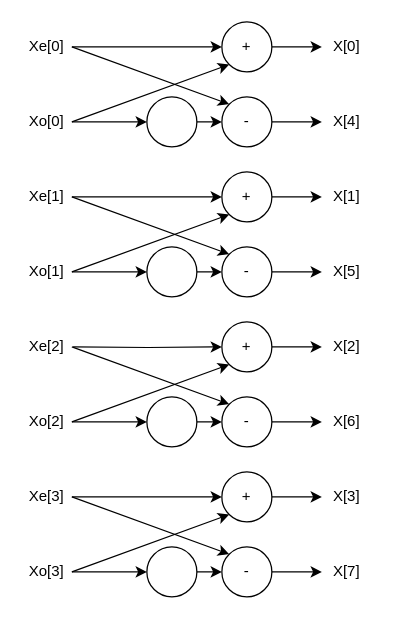
The diagram is 393 pixels wide and 619 high, and some of its shapes have lost their labels. The shapes that lost their labels are listed below. From the top down, each one's centre as x and y in pixels, then its label:
At (171,121): "w 0".
At (171,271): "w 1".
At (171,421): "w 2".
At (171,571): "w 3".
